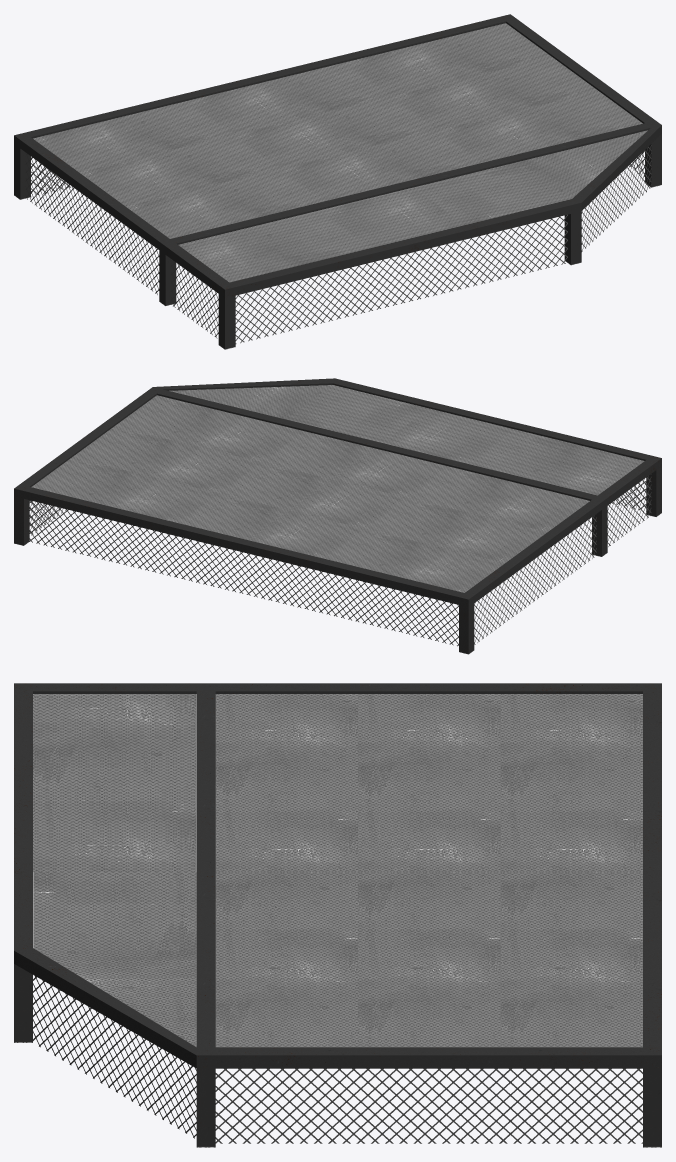
Rendered from Platform_R.fbx.
3 views of the same model, one above another, from view 1: azimuth 30°, elevation 25°; view 2: azimuth 150°, elevation 25°; view 3: azimuth 270°, elevation 25° (orthographic). The views are drawn at different scales.
Visible parts, largest first — view 1: Platform_R; view 2: Platform_R; view 3: Platform_R.
Part boxes in pixels (left/top/right/bottom): Platform_R: left=14, top=14, right=661, bottom=349; Platform_R: left=14, top=378, right=661, bottom=654; Platform_R: left=14, top=683, right=661, bottom=1147.
Size of the model in its own units: 15.76 by 1.82 by 11.59.
